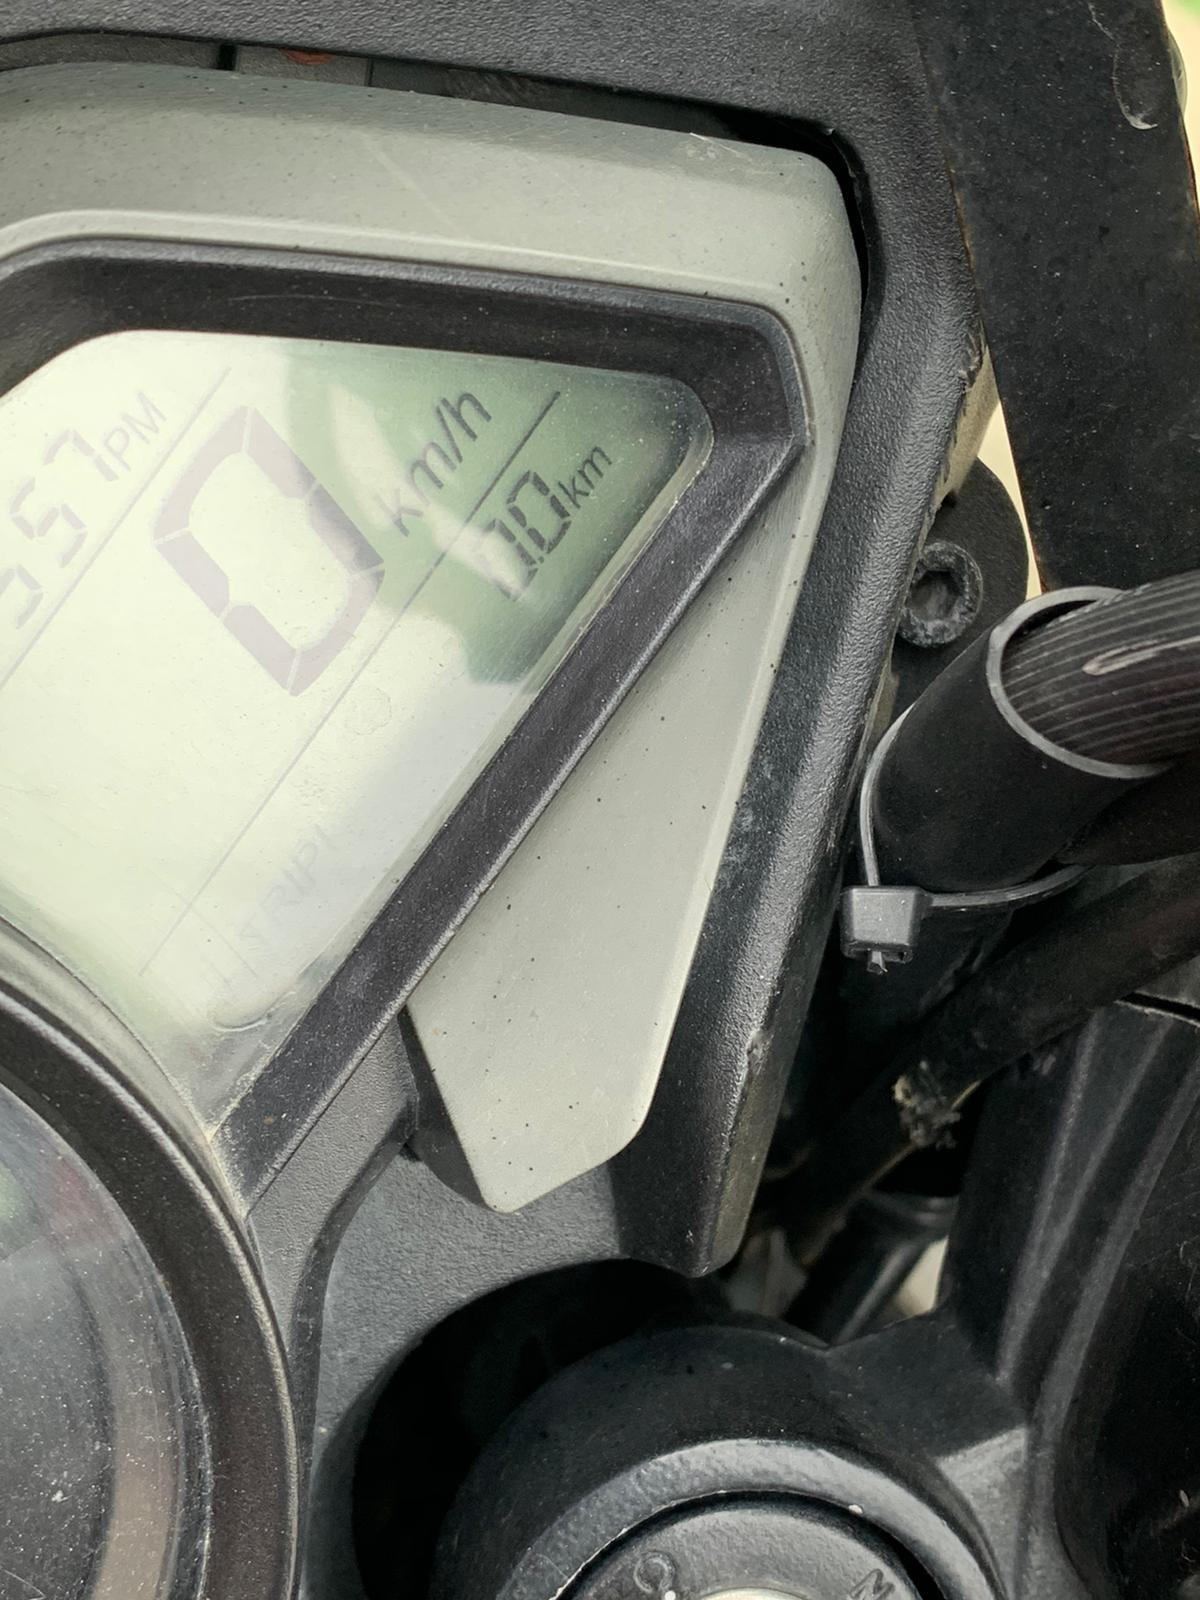,: (533, 548, 548, 568)
0: (153, 408, 386, 702), (463, 517, 539, 603), (502, 470, 575, 556)
5: (3, 470, 92, 569)
7: (39, 422, 120, 491)
X: (400, 441, 459, 501), (118, 384, 171, 443), (371, 483, 426, 538), (439, 386, 494, 437), (101, 427, 141, 471), (579, 445, 614, 486), (557, 474, 595, 509)
odometer: (6, 307, 744, 1121)
